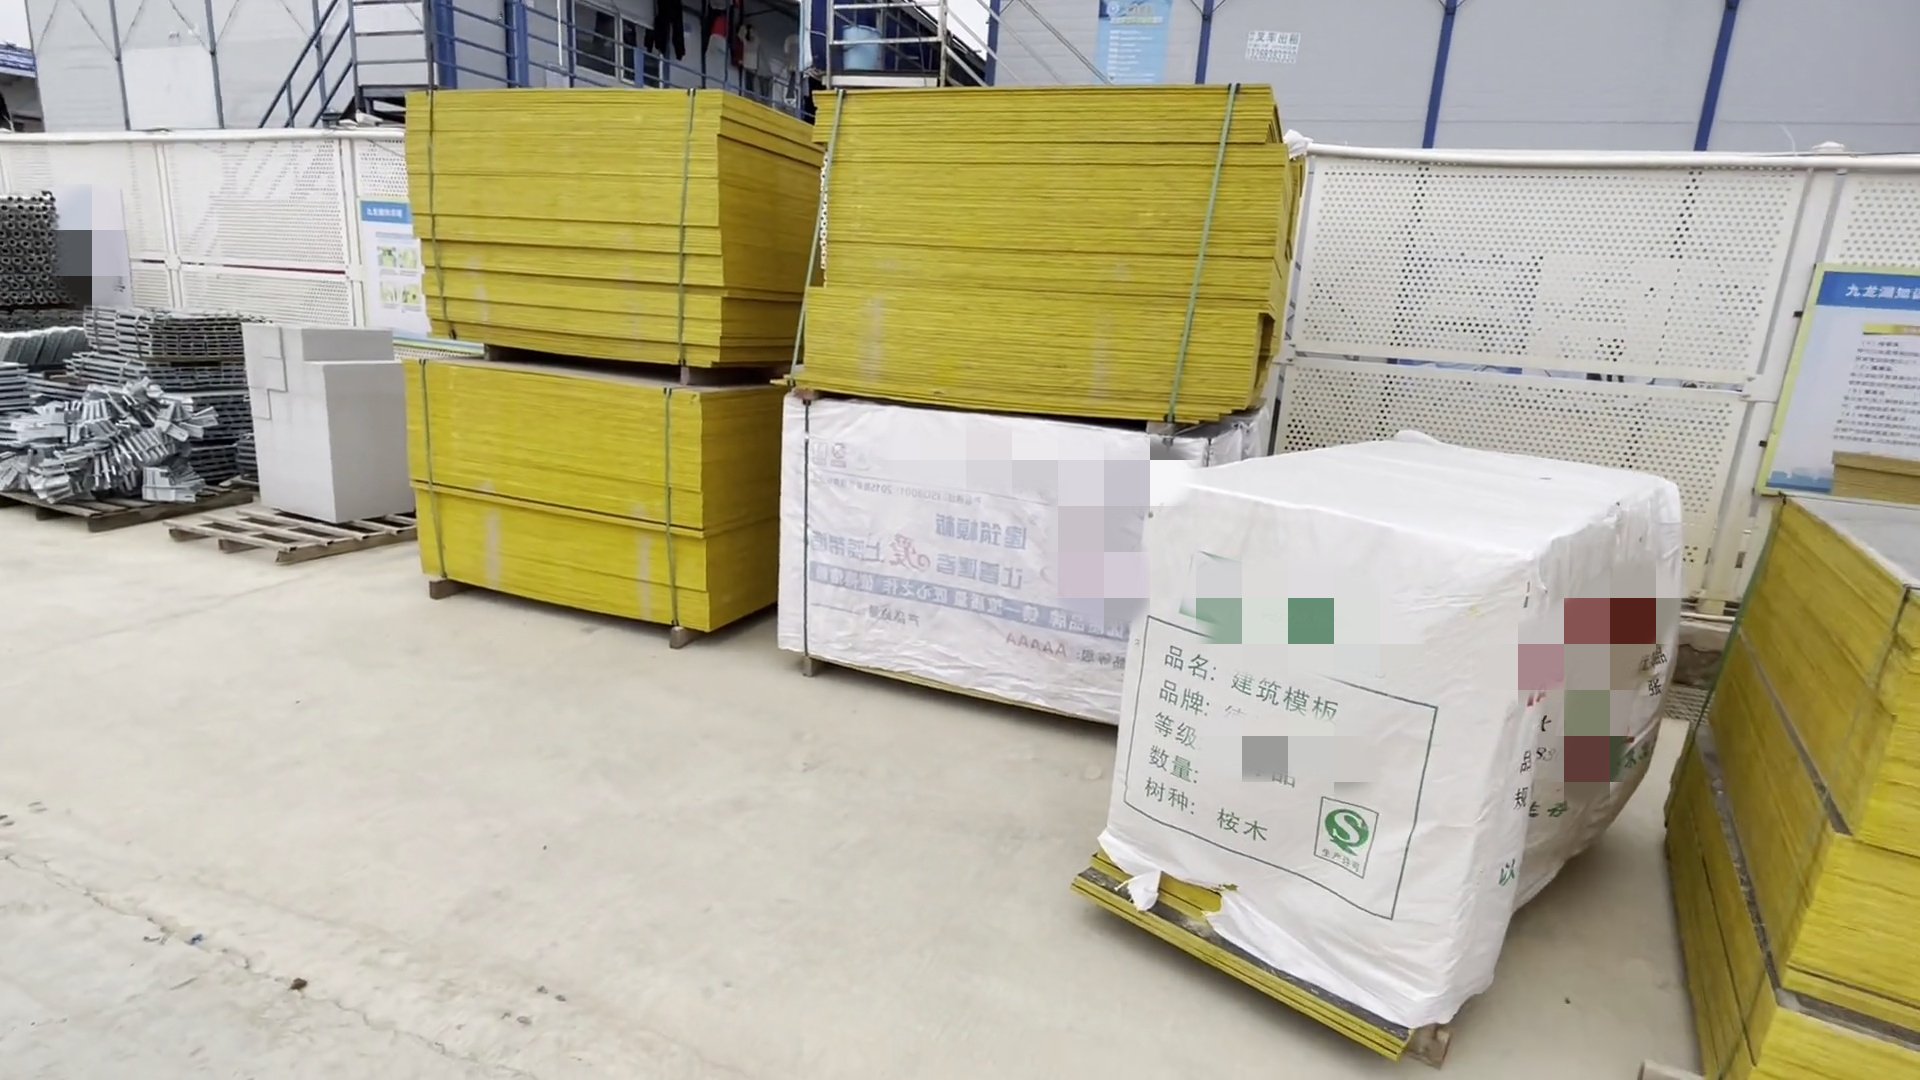board: (388, 90, 791, 665), (804, 84, 1291, 435)
